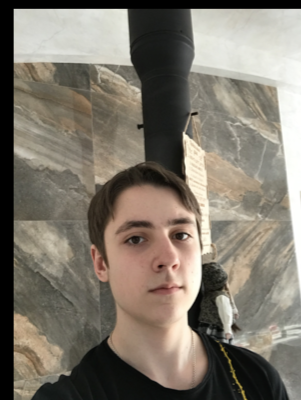without_mask: (104, 216, 202, 325)
